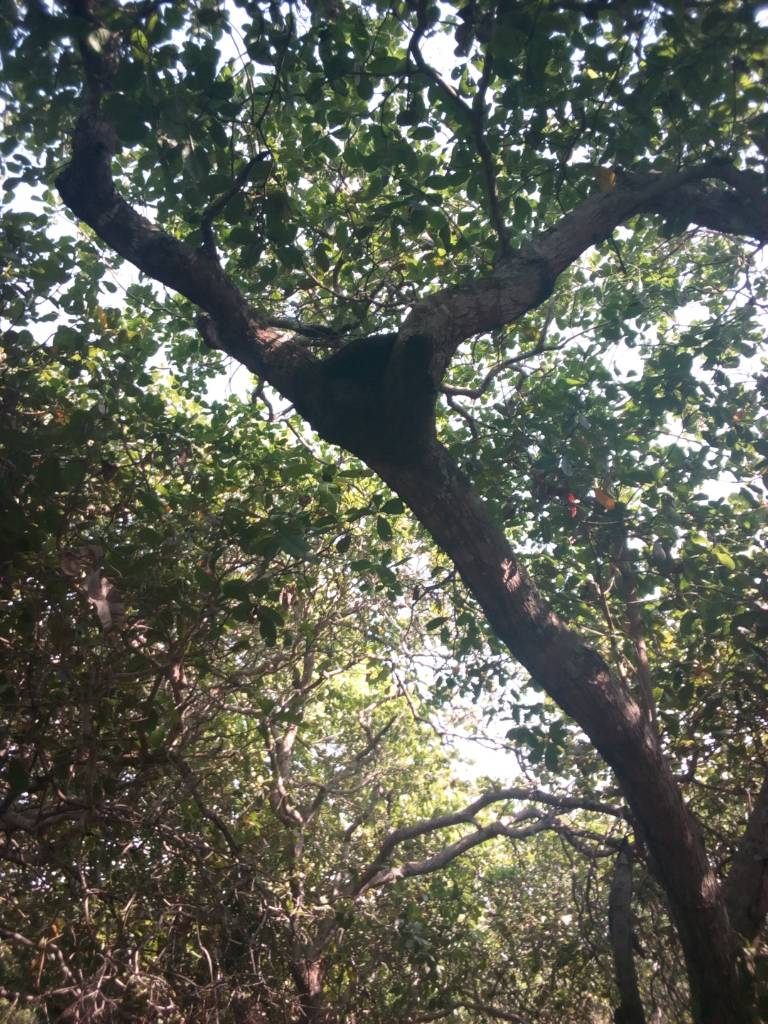Termites: (307, 339, 440, 466)
